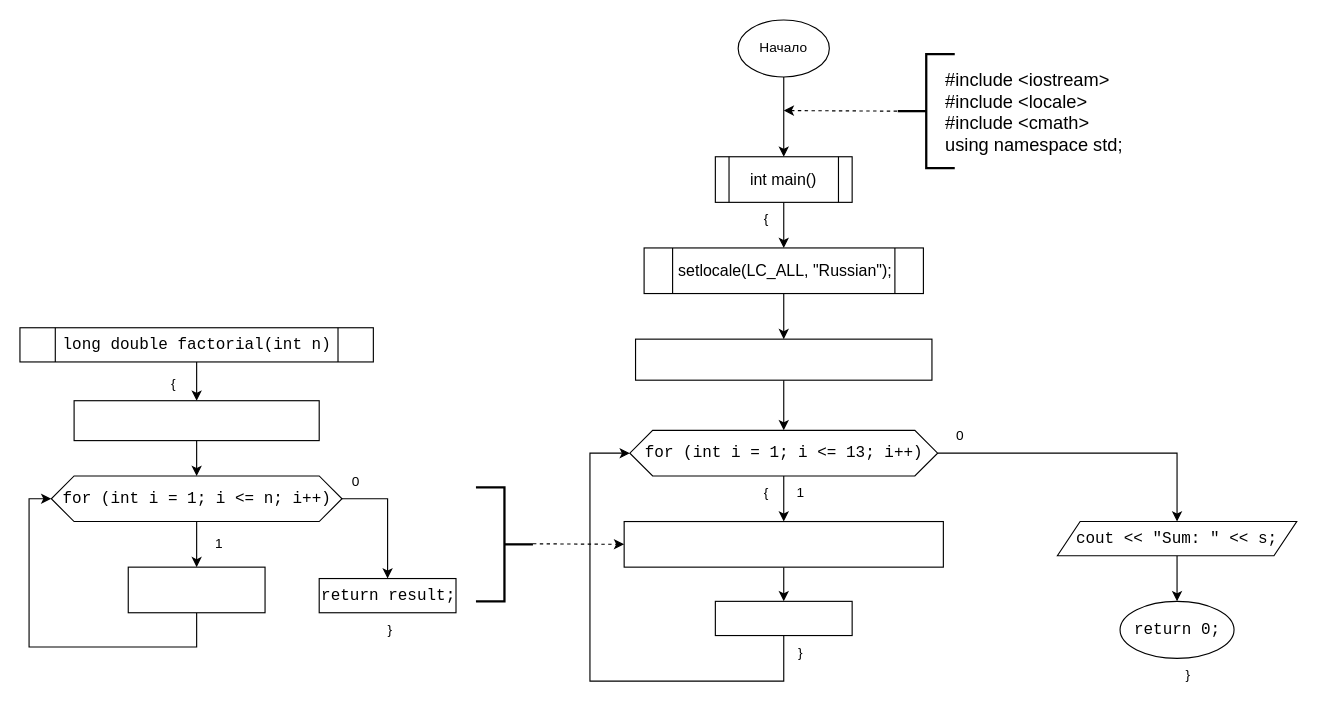
This 1317x713 diagram has some shape labels left out. The box of each missing label's shape, as (x1, y1, x2, y2) in pixels:
a = log ( factorial ( i )) / ( i * i );: (623, 520, 943, 567)
long double result = 1. ;: (73, 400, 319, 441)
long double s = 0 , n = 13 , a ;: (634, 338, 932, 380)
result *= i ;: (127, 566, 265, 613)
s += a ;: (714, 600, 852, 636)
